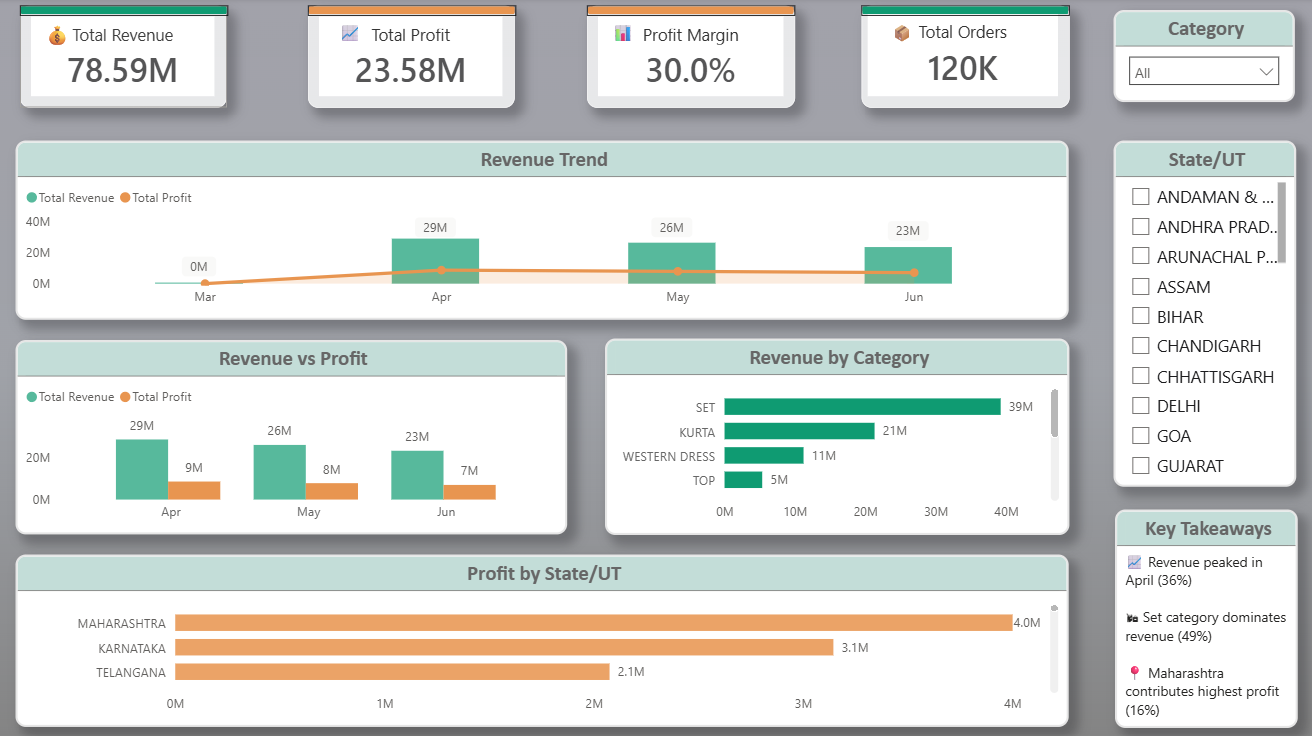

The page's visual inventory and layout, read from the dashboard file:
{"tool":"powerbi","page":{"name":"Fiancial Overview","canvas":[1280,720],"ordinal":0},"visuals":[{"type":"cardVisual","fields":{"Data":["Fact_Sales.Total Revenue"]},"box":[23.2,6.6,200.4,99.4],"z":0,"group":"g1"},{"type":"cardVisual","fields":{"Data":["Fact_Sales.Total Orders"]},"box":[839.8,6.6,202.1,99.4],"z":0,"group":"g4"},{"type":"lineClusteredColumnComboChart","title":"Revenue Trend","fields":{"Category":["Dim_Date.Month Name"],"Y":["Fact_Sales.Total Revenue"],"Y2":["Fact_Sales.Total Profit"]},"box":[19.3,138,1022,173.9],"z":0},{"type":"shape","box":[839.8,6.6,202.1,9.9],"z":1000,"group":"g4"},{"type":"cardVisual","fields":{"Data":["Fact_Sales.Total Profit"]},"box":[302.6,7.2,200.4,99.4],"z":1000,"group":"g2"},{"type":"clusteredColumnChart","title":"Revenue vs Profit","fields":{"Category":["Dim_Date.Month Name"],"Y":["Fact_Sales.Total Revenue","Fact_Sales.Total Profit"]},"box":[19.3,331.8,535,188.8],"z":1000},{"type":"cardVisual","fields":{"Data":["Fact_Sales.Profit Margin"]},"box":[573.1,6.6,202.1,99.4],"z":2000,"group":"g3"},{"type":"textbox","box":[863,16.5,36.4,39.8],"z":2000,"group":"g4"},{"type":"clusteredBarChart","title":"Revenue by Category","fields":{"Category":["Dim_Product.Category"],"Y":["Fact_Sales.Total Revenue"]},"box":[590.8,330.2,450.6,190.5],"z":2000},{"type":"clusteredBarChart","title":"Profit by State/UT","fields":{"Y":["Fact_Sales.Total Profit"],"Category":["Dim_State.Final_State"]},"box":[19.3,540.6,1022,167.3],"z":3000},{"type":"slicer","title":"Category","fields":{"Values":["Dim_Product.Category"]},"box":[1084.4,11.8,175.7,89.5],"z":4000},{"type":"textbox","title":"Key Takeaways","box":[1086.1,495.8,177.2,212],"z":5000},{"type":"slicer","title":"State/UT","fields":{"Values":["Fact_Sales.Final_State"]},"box":[1084.4,138,177.2,336.3],"z":6000},{"type":"group","id":"g1","title":"Group 1","box":[22.6,6.6,202.1,99.4],"z":7000},{"type":"group","id":"g2","title":"Group 2","box":[302.6,7.2,202.1,99.4],"z":8000},{"type":"group","id":"g3","title":"Group 3","box":[573.1,6.6,202.1,99.4],"z":9000},{"type":"group","id":"g4","title":"Group 4","box":[839.8,6.6,202.1,99.4],"z":10000},{"type":"shape","box":[22.6,7.2,202.1,9.9],"z":11000,"group":"g1"},{"type":"shape","box":[302.6,7.2,202.1,9.9],"z":12000,"group":"g2"},{"type":"shape","box":[573.1,6.6,202.1,9.9],"z":13000,"group":"g3"},{"type":"textbox","box":[35.9,17.1,46.4,39.8],"z":14001,"group":"g1"},{"type":"textbox","box":[327.4,17.1,38.1,39.8],"z":14002,"group":"g2"},{"type":"textbox","box":[591.3,16.5,36.4,39.8],"z":14003,"group":"g3"}]}

Visuals, with their boxes in screenshot pixels (x1, y1, x2, y2), scaled from the page's 1280x720 canvas onto the 1312x736 screenshot:
cardVisual - Fact_Sales.Total Revenue: bbox=(24, 7, 229, 108)
cardVisual - Fact_Sales.Total Orders: bbox=(861, 7, 1068, 108)
"Revenue Trend" lineClusteredColumnComboChart: bbox=(20, 141, 1067, 319)
shape: bbox=(861, 7, 1068, 17)
cardVisual - Fact_Sales.Total Profit: bbox=(310, 7, 516, 109)
"Revenue vs Profit" clusteredColumnChart: bbox=(20, 339, 568, 532)
cardVisual - Fact_Sales.Profit Margin: bbox=(587, 7, 795, 108)
textbox: bbox=(885, 17, 922, 58)
"Revenue by Category" clusteredBarChart: bbox=(606, 338, 1067, 532)
"Profit by State/UT" clusteredBarChart: bbox=(20, 553, 1067, 724)
"Category" slicer: bbox=(1112, 12, 1292, 104)
"Key Takeaways" textbox: bbox=(1113, 507, 1295, 724)
"State/UT" slicer: bbox=(1112, 141, 1293, 485)
"Group 1" group: bbox=(23, 7, 230, 108)
"Group 2" group: bbox=(310, 7, 517, 109)
"Group 3" group: bbox=(587, 7, 795, 108)
"Group 4" group: bbox=(861, 7, 1068, 108)
shape: bbox=(23, 7, 230, 17)
shape: bbox=(310, 7, 517, 17)
shape: bbox=(587, 7, 795, 17)
textbox: bbox=(37, 17, 84, 58)
textbox: bbox=(336, 17, 375, 58)
textbox: bbox=(606, 17, 643, 58)
